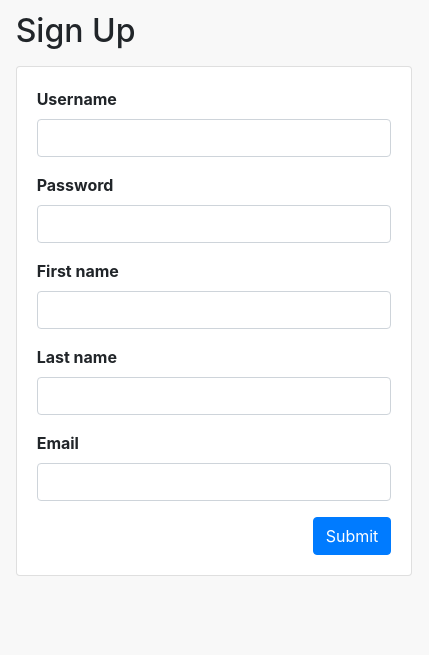
Test: SignupForm › displays error message on unsuccessful signup
Click the button "Submit" at (352, 536), box [313,517,391,555]
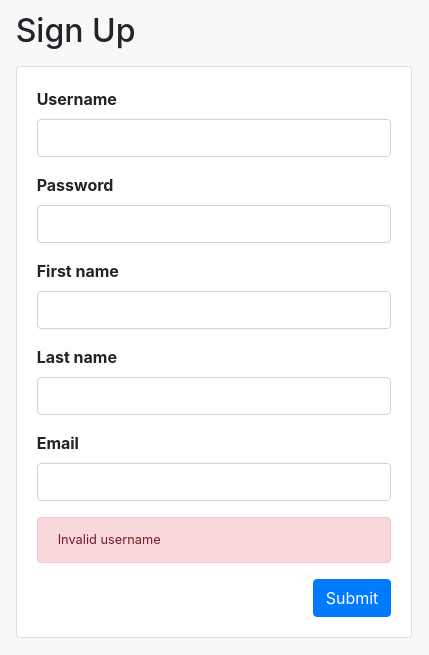
Expected: the text "Invalid username" is shown, [58,532,161,547]
